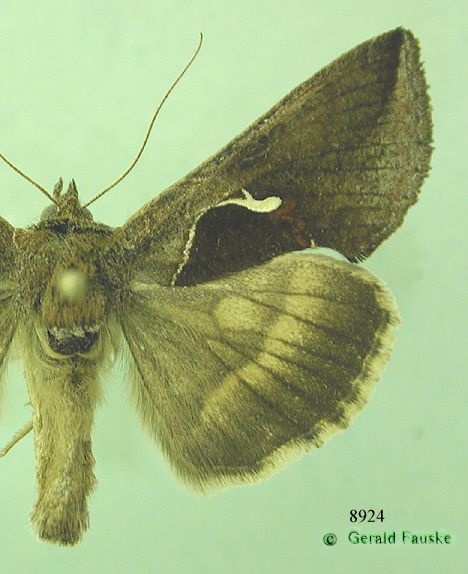Noctuidae: (1, 27, 440, 547)
